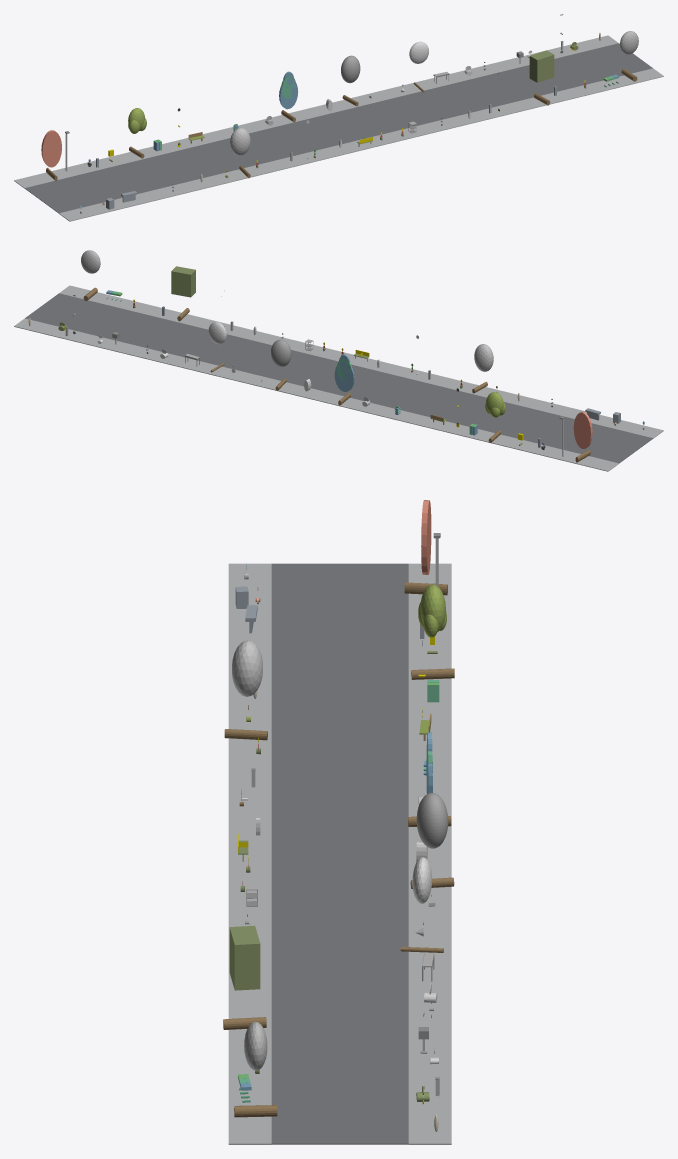
The picture shows the model from 3 angles, top to bottom: view 1: azimuth 30°, elevation 25°; view 2: azimuth 150°, elevation 25°; view 3: azimuth 270°, elevation 25°; orthographic projection. The views are drawn at different scales.
Parts seen in each view (by area): view 1: road_slab, sidewalk_left, sidewalk_right, inst_0024, inst_0018, inst_0021, inst_0020, inst_0022, inst_0019, inst_0025, inst_0023; view 2: road_slab, sidewalk_right, sidewalk_left, inst_0024, inst_0018, inst_0021, inst_0020, inst_0022, inst_0019, inst_0025, inst_0023; view 3: road_slab, sidewalk_right, sidewalk_left, inst_0024, inst_0020, inst_0022, inst_0019, inst_0025, inst_0018, inst_0023.
Part boxes in pixels (x1=…): road_slab: x1=24, y1=43, x2=652, y2=213; sidewalk_left: x1=59, y1=68, x2=663, y2=221; sidewalk_right: x1=14, y1=35, x2=618, y2=188; inst_0024: x1=529, y1=50, x2=554, y2=105; inst_0018: x1=41, y1=130, x2=61, y2=181; inst_0021: x1=279, y1=71, x2=298, y2=122; inst_0020: x1=230, y1=128, x2=250, y2=178; inst_0022: x1=341, y1=55, x2=360, y2=106; inst_0019: x1=128, y1=108, x2=146, y2=158; inst_0025: x1=620, y1=31, x2=638, y2=81; inst_0023: x1=409, y1=41, x2=428, y2=92; road_slab: x1=25, y1=293, x2=652, y2=463; sidewalk_right: x1=14, y1=318, x2=618, y2=471; sidewalk_left: x1=59, y1=285, x2=663, y2=438; inst_0024: x1=171, y1=266, x2=195, y2=321; inst_0018: x1=573, y1=411, x2=592, y2=462; inst_0021: x1=334, y1=354, x2=354, y2=405; inst_0020: x1=472, y1=344, x2=493, y2=393; inst_0022: x1=271, y1=339, x2=291, y2=390; inst_0019: x1=485, y1=392, x2=505, y2=442; inst_0025: x1=81, y1=250, x2=100, y2=301; inst_0023: x1=208, y1=321, x2=226, y2=372; road_slab: x1=271, y1=563, x2=408, y2=1144; sidewalk_right: x1=408, y1=563, x2=451, y2=1144; sidewalk_left: x1=228, y1=563, x2=271, y2=1144; inst_0024: x1=223, y1=925, x2=266, y2=1029; inst_0020: x1=224, y1=640, x2=267, y2=740; inst_0022: x1=410, y1=793, x2=454, y2=888; inst_0019: x1=411, y1=584, x2=454, y2=679; inst_0025: x1=234, y1=1021, x2=277, y2=1117; inst_0018: x1=404, y1=500, x2=447, y2=595; inst_0023: x1=400, y1=857, x2=443, y2=952.
Bounding box in the file's own units: 80 × 6.08 × 13.5.
